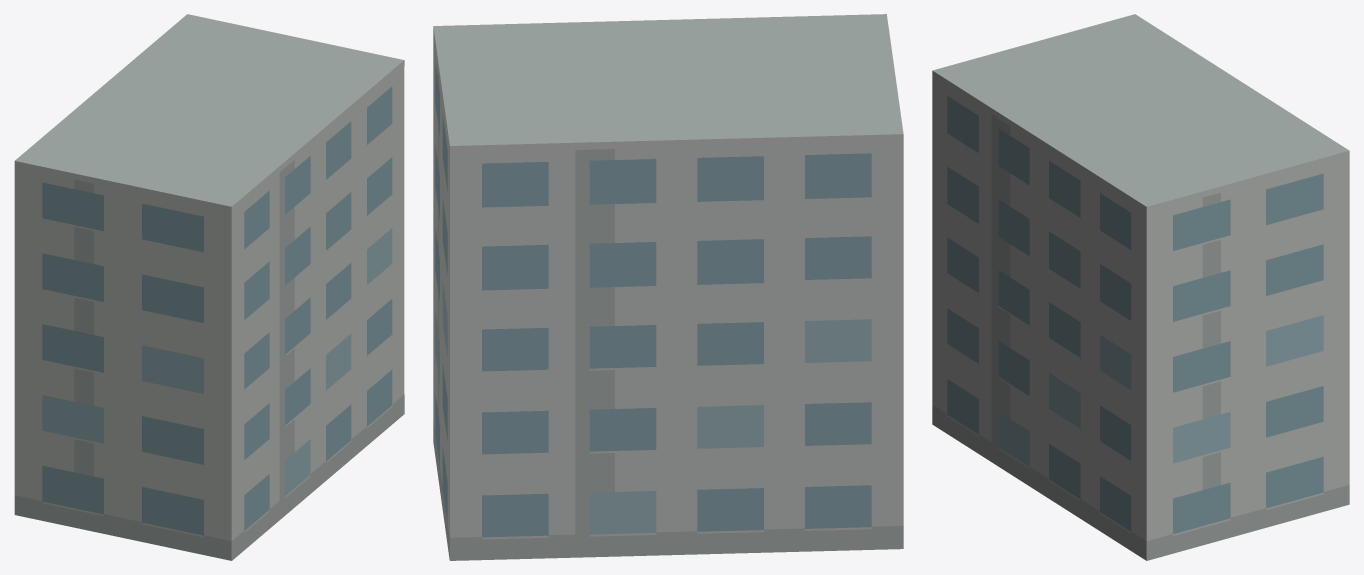
File: residential-8ce53ff0-86c4-4736-92a9-77cf264f4103.glb
3 renders of one model, left to right at view 1: azimuth 30°, elevation 25°; view 2: azimuth 150°, elevation 25°; view 3: azimuth 270°, elevation 25°, orthographic. The views are drawn at different scales.
Visible parts, largest first — view 1: residential-8ce53ff0-86c4-4736-92a9-77cf264f4103.tmp; view 2: residential-8ce53ff0-86c4-4736-92a9-77cf264f4103.tmp; view 3: residential-8ce53ff0-86c4-4736-92a9-77cf264f4103.tmp.
Part boxes in pixels (left/top/right/bottom): residential-8ce53ff0-86c4-4736-92a9-77cf264f4103.tmp: left=14, top=14, right=404, bottom=560; residential-8ce53ff0-86c4-4736-92a9-77cf264f4103.tmp: left=433, top=14, right=903, bottom=560; residential-8ce53ff0-86c4-4736-92a9-77cf264f4103.tmp: left=932, top=14, right=1349, bottom=560.
Size of the model in its own units: 16.2 by 13.85 by 14.8.
